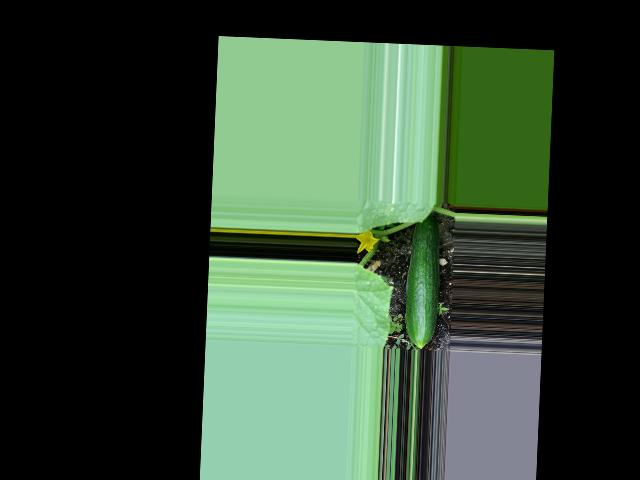cucumber: (404, 214, 442, 350)
